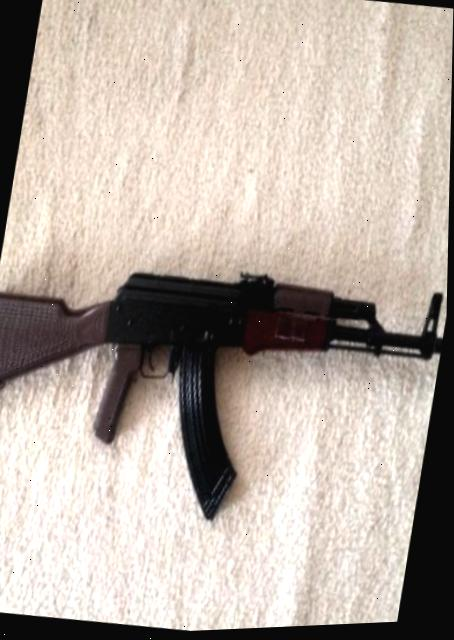rifle: (0, 215, 450, 557)
